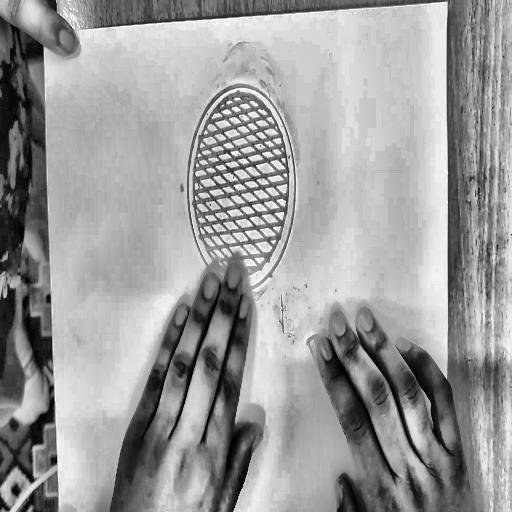badminton: (146, 66, 367, 512)
top_left: (41, 31, 49, 44)
top_right: (445, 0, 449, 6)
